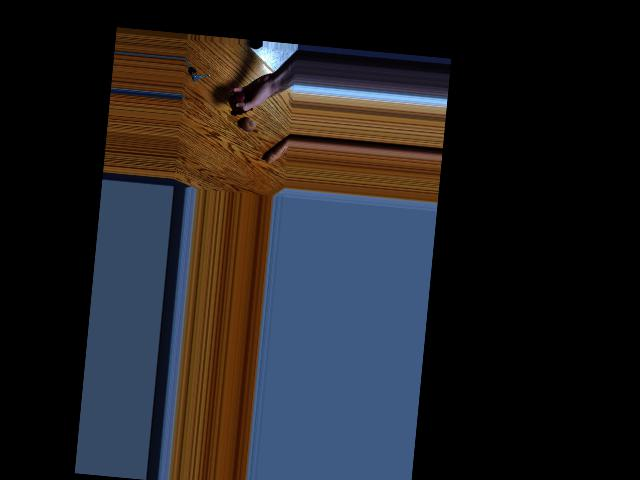onion: (228, 91, 247, 112)
